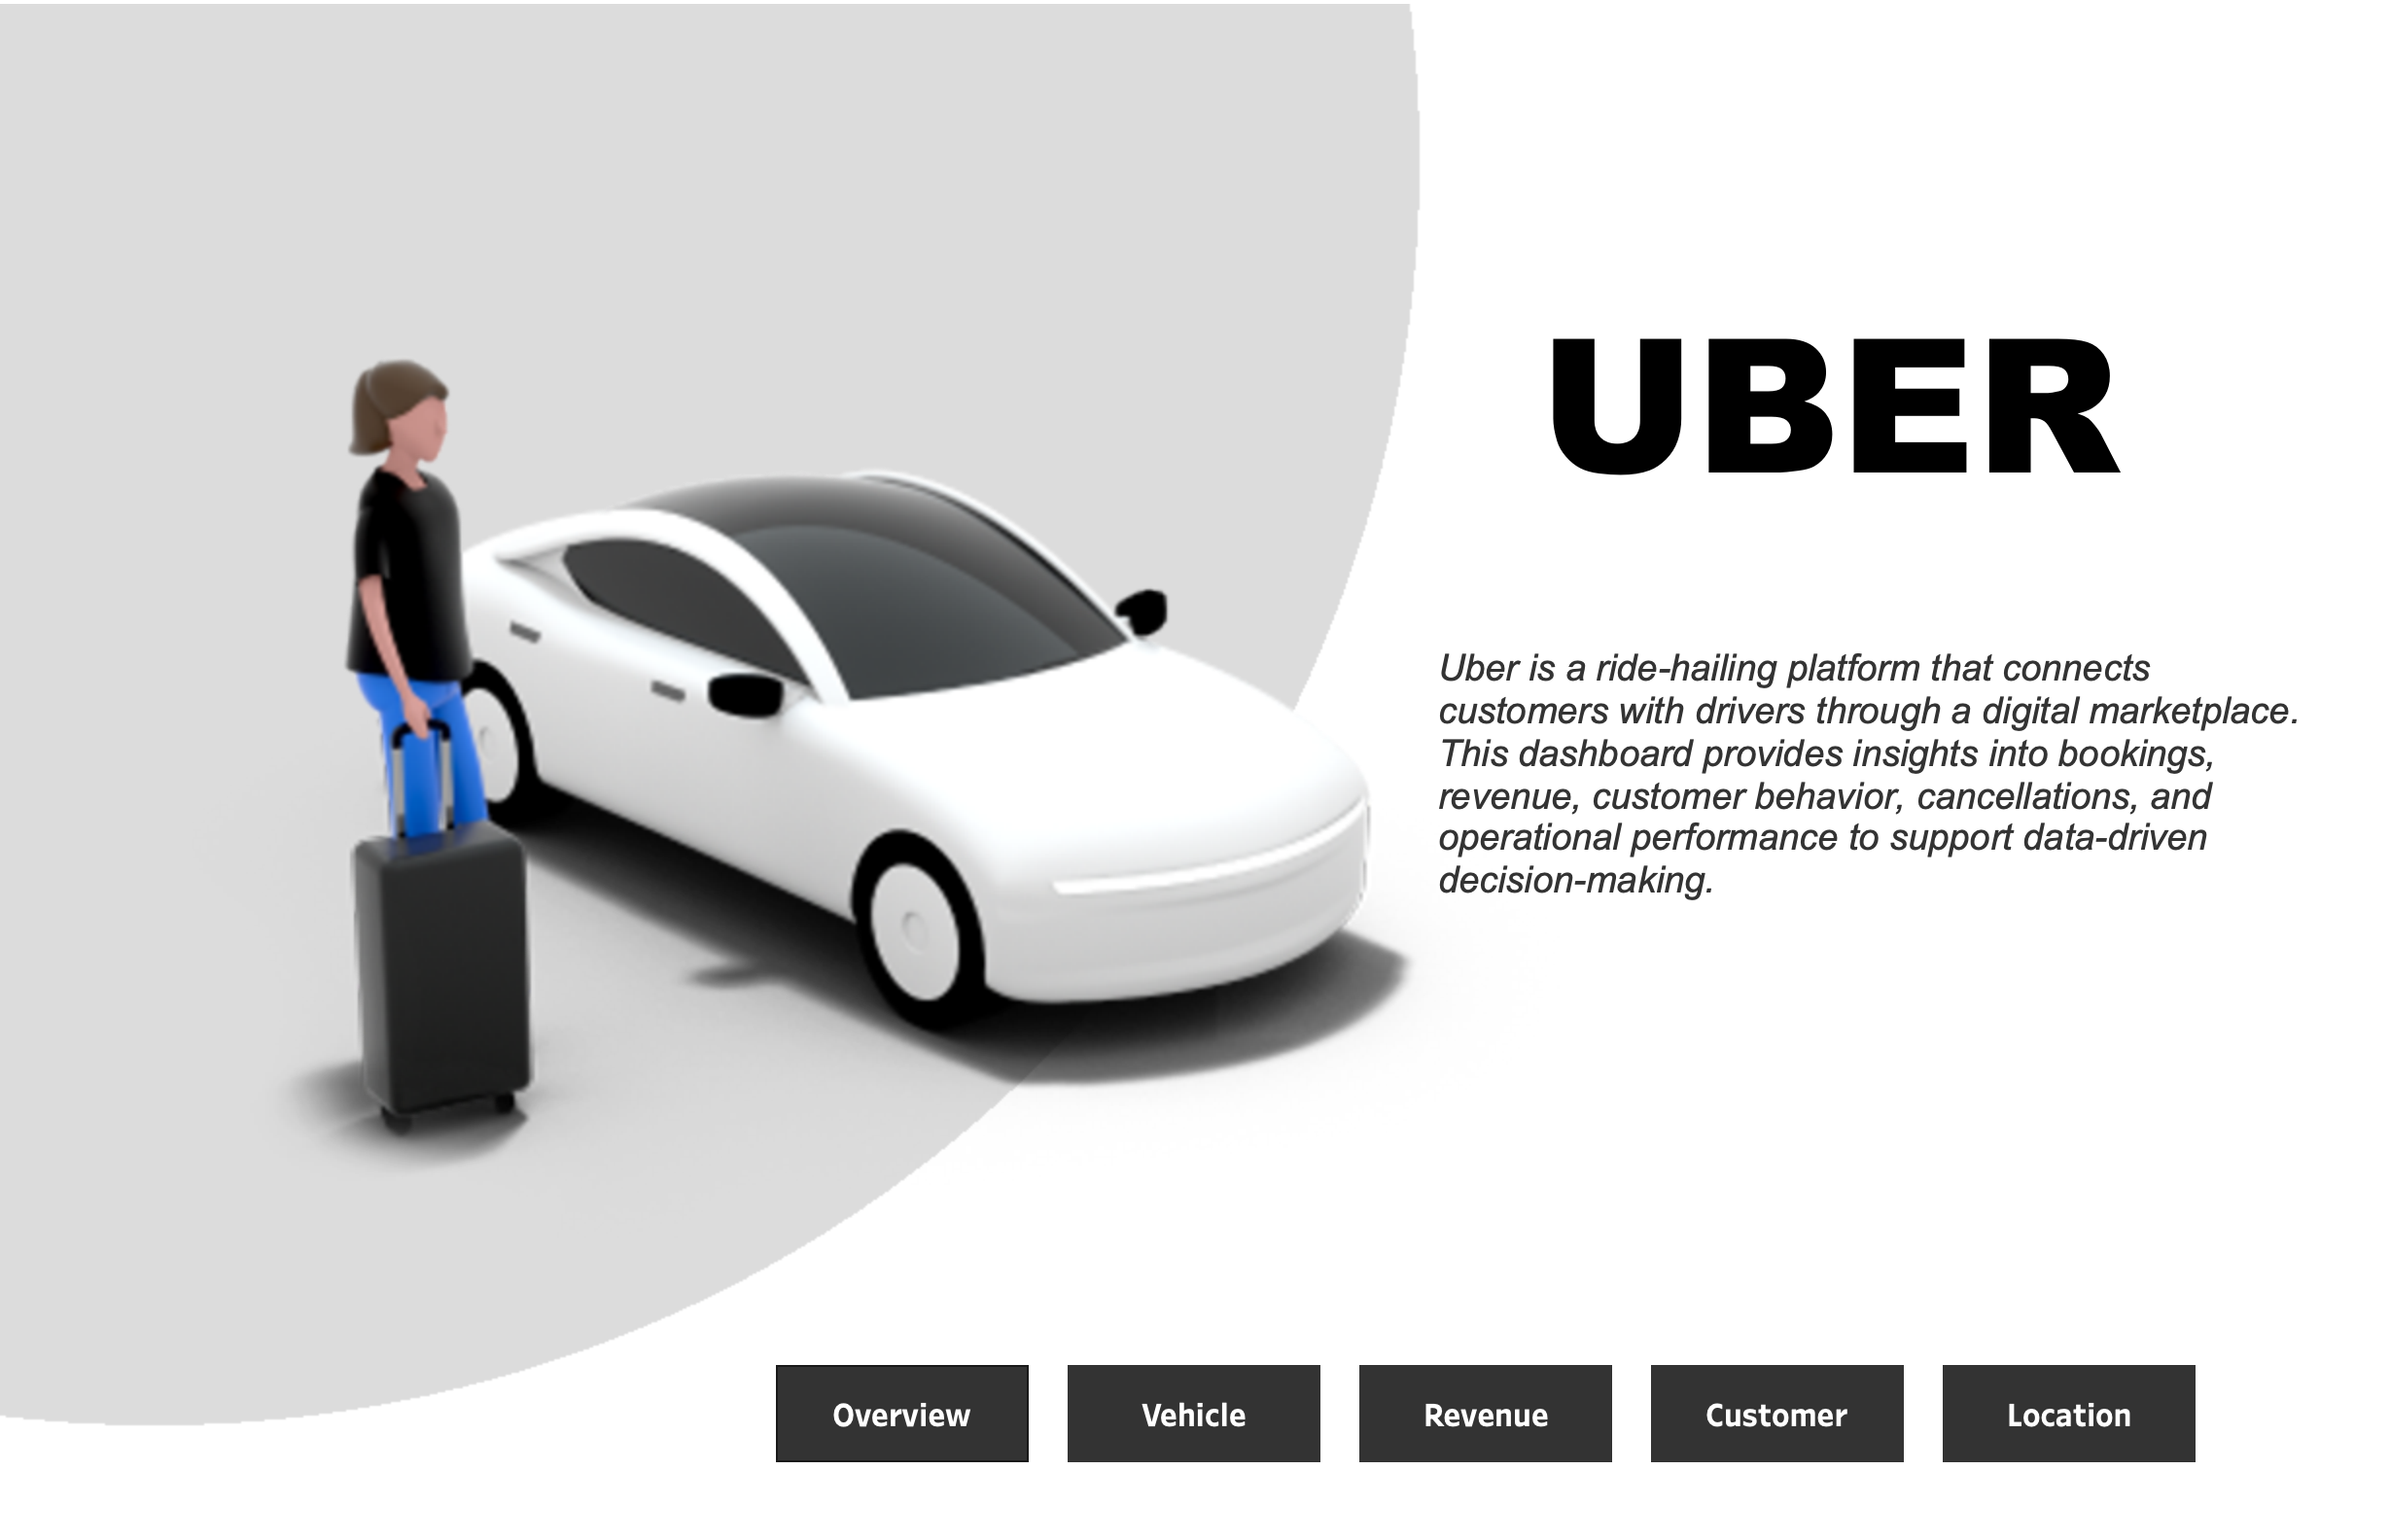

What the dashboard file says about the page in this screenshot:
{"tool":"tableau","page":{"name":"Home","canvas":[1200,800],"ordinal":1},"visuals":[{"type":"image","param":"Image/car_illustration.png","box":[40,7,823,703]},{"type":"blank","box":[8,8,1184,784]},{"type":"text","box":[790,130,397,147]},{"type":"text","box":[738,268,458,258]},{"type":"dashboard-object","box":[400,700,130,50]},{"type":"dashboard-object","box":[550,700,130,50]},{"type":"dashboard-object","box":[700,700,130,50]},{"type":"dashboard-object","box":[850,700,130,50]},{"type":"dashboard-object","box":[1000,700,130,50]}]}

Visuals, with their boxes on the page's 1200x800 design canvas (x1, y1, x2, y2). These are canvas units, not pixel positions in the 2390x1540 screenshot, which may show the page scaled, cropped or inside an application window:
image: bbox(40, 7, 863, 710)
blank: bbox(8, 8, 1192, 792)
text: bbox(790, 130, 1187, 277)
text: bbox(738, 268, 1196, 526)
dashboard-object: bbox(400, 700, 530, 750)
dashboard-object: bbox(550, 700, 680, 750)
dashboard-object: bbox(700, 700, 830, 750)
dashboard-object: bbox(850, 700, 980, 750)
dashboard-object: bbox(1000, 700, 1130, 750)
